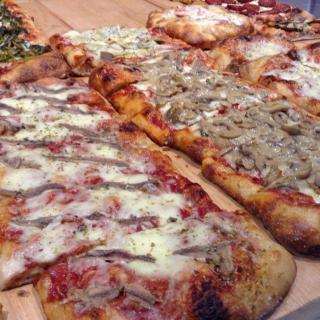Pizza: (0, 0, 222, 292), (49, 25, 320, 262), (32, 209, 296, 319), (148, 4, 320, 114)
